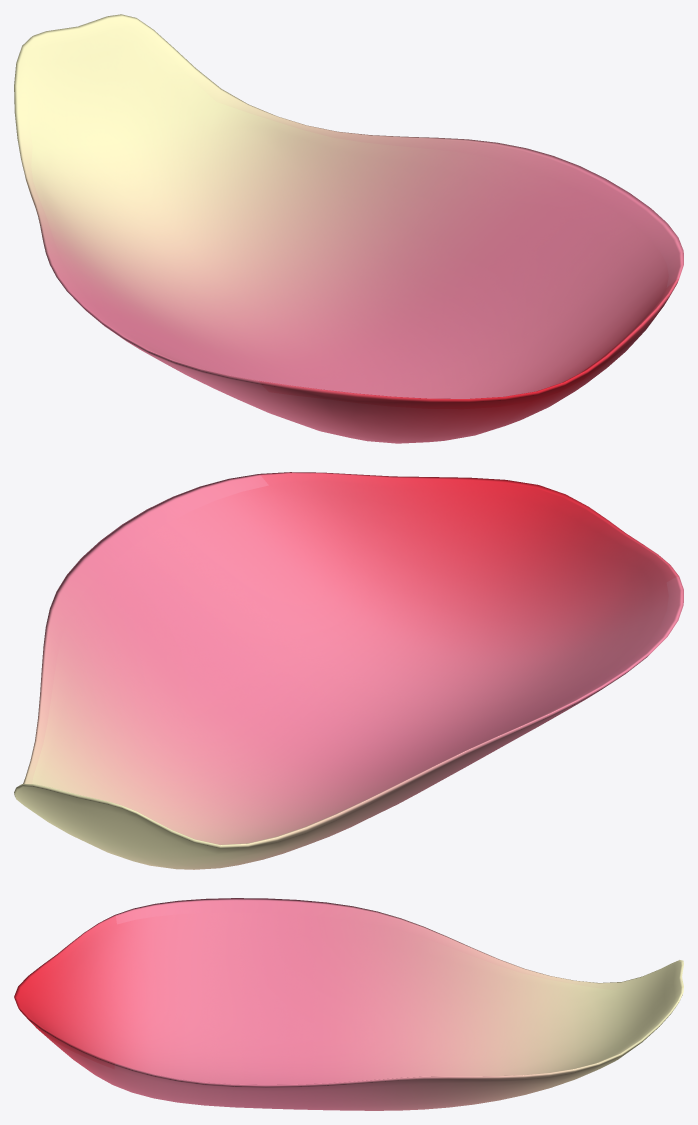
Rendered from petal.fbx.
The picture shows the model from 3 angles, top to bottom: view 1: azimuth 30°, elevation 25°; view 2: azimuth 150°, elevation 25°; view 3: azimuth 270°, elevation 25°; orthographic projection. The views are drawn at different scales.
Visible parts, largest first — view 1: nurbsToPoly1; view 2: nurbsToPoly1; view 3: nurbsToPoly1.
Part boxes in pixels (left/top/right/bottom): nurbsToPoly1: left=14, top=14, right=683, bottom=443; nurbsToPoly1: left=14, top=472, right=683, bottom=869; nurbsToPoly1: left=14, top=898, right=683, bottom=1110.
Bounding box in the file's own units: 2.13 × 0.6368 × 3.23.
1 material, 1 textured.
